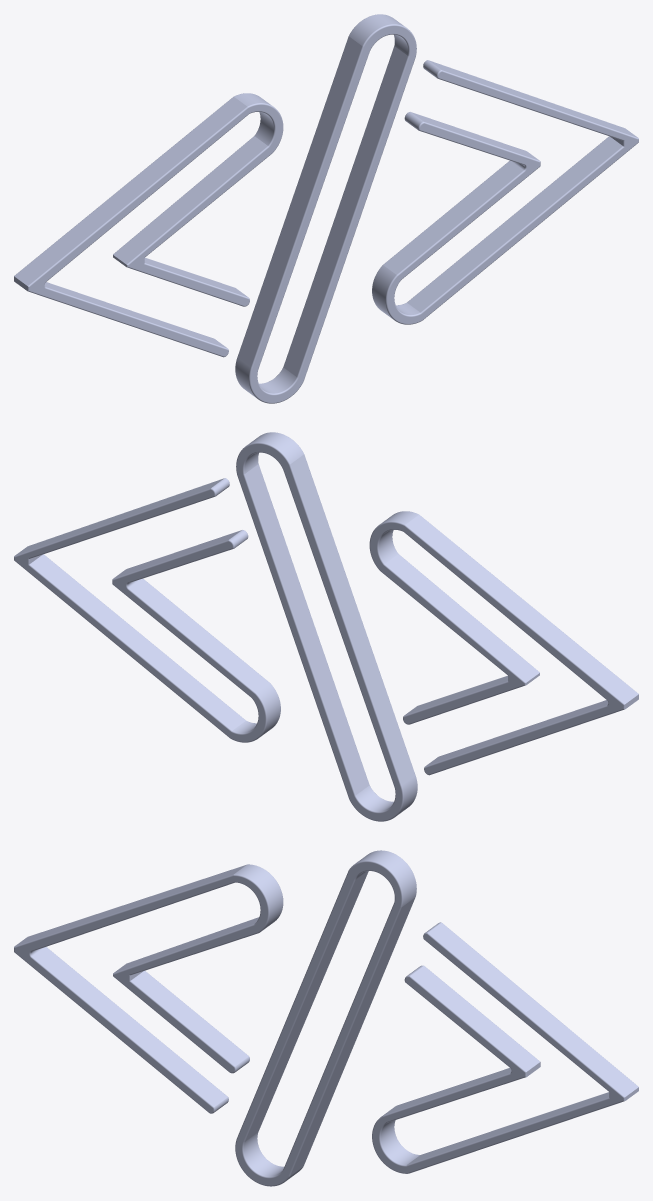
Rendered from code-bracket.fbx.
3 views of the same model, one above another, from view 1: azimuth 30°, elevation 25°; view 2: azimuth 150°, elevation 25°; view 3: azimuth 330°, elevation 25° (orthographic).
Visible parts, largest first — view 1: Part1 (×3); view 2: Part1 (×3); view 3: Part1 (×3).
Part boxes in pixels (x1,y1,x2,y2): Part1 (×3): (14,14,638,403); Part1 (×3): (14,432,638,821); Part1 (×3): (14,850,638,1186).
Size of the model in its own units: 238 by 131 by 10.
